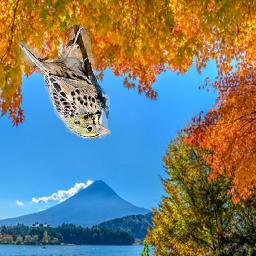Sparrow: (19, 25, 111, 139)
